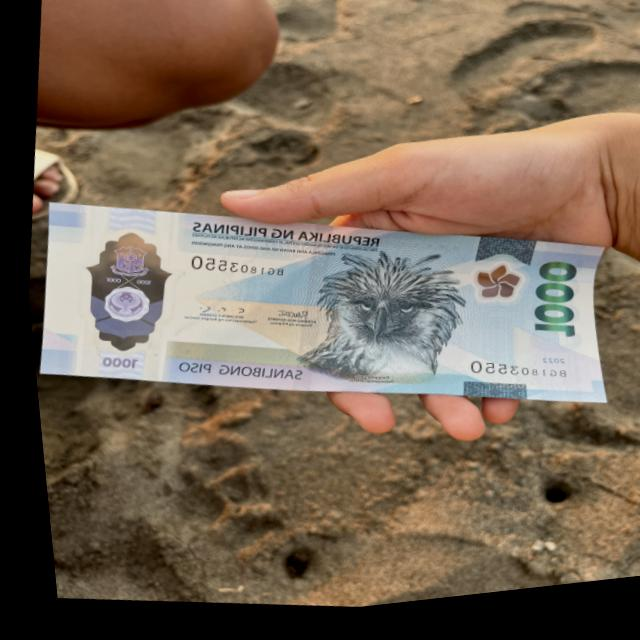clear_window: (48, 198, 205, 396)
eagle: (260, 229, 489, 414)
sampaguita: (456, 262, 530, 321)
